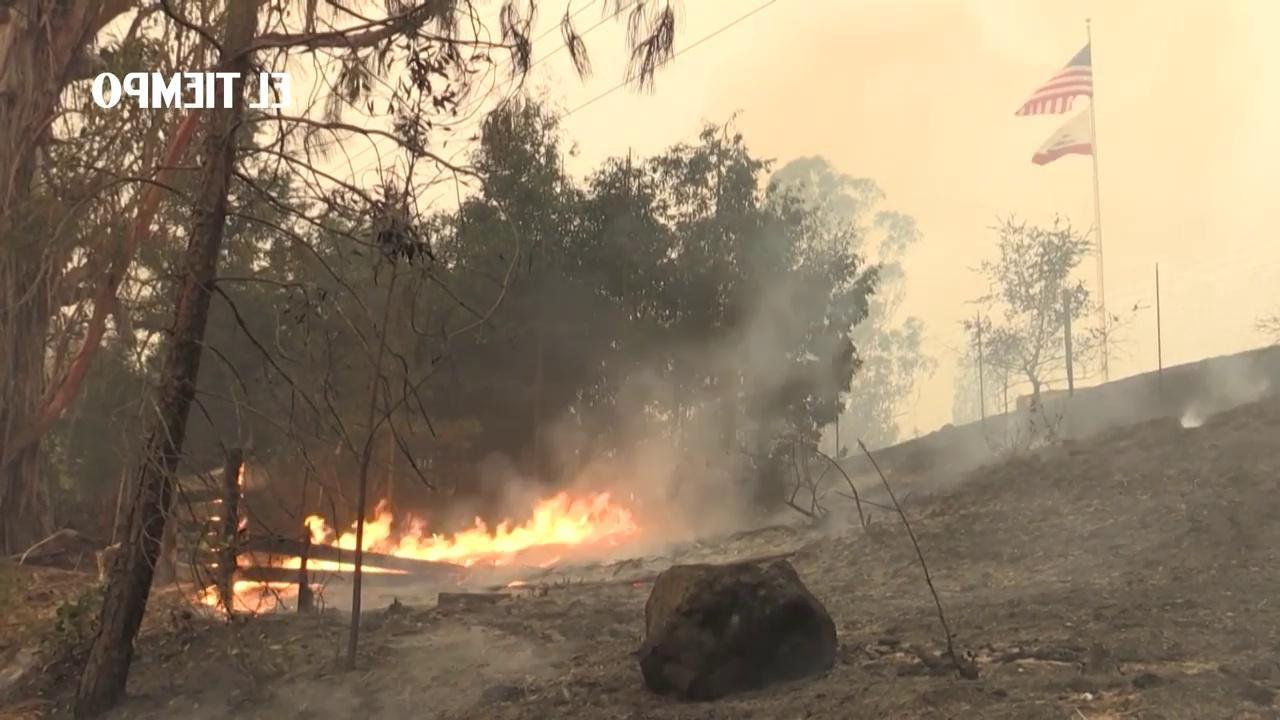Fire: (191, 486, 636, 611)
